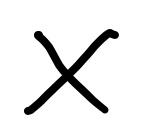mult: (25, 29, 117, 115)
